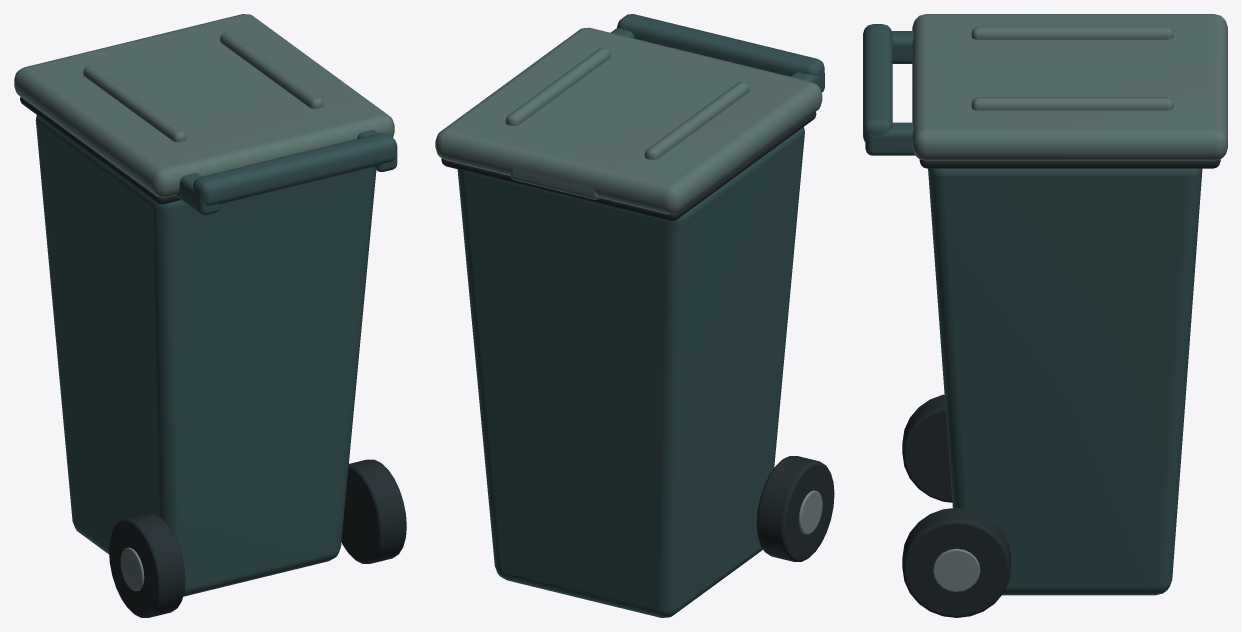
File: city_waste_02.glb
3 views of the same model, side by side, from view 1: azimuth 30°, elevation 25°; view 2: azimuth 150°, elevation 25°; view 3: azimuth 270°, elevation 25° (orthographic). The views are drawn at different scales.
Visible parts, largest first — view 1: CityWaste02_Mesh; view 2: CityWaste02_Mesh; view 3: CityWaste02_Mesh.
Boxes of the visible parts, box(x1,y1,x2,y2) form: CityWaste02_Mesh: box(14, 14, 406, 617); CityWaste02_Mesh: box(435, 14, 834, 617); CityWaste02_Mesh: box(863, 14, 1227, 617).
Bounding box in the file's own units: 0.63 × 1.1 × 0.74.
